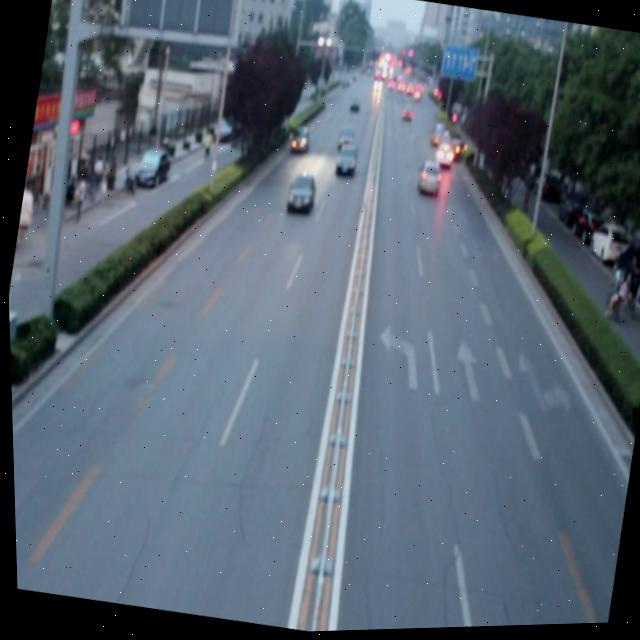car: (283, 169, 316, 217), (413, 159, 442, 198)
